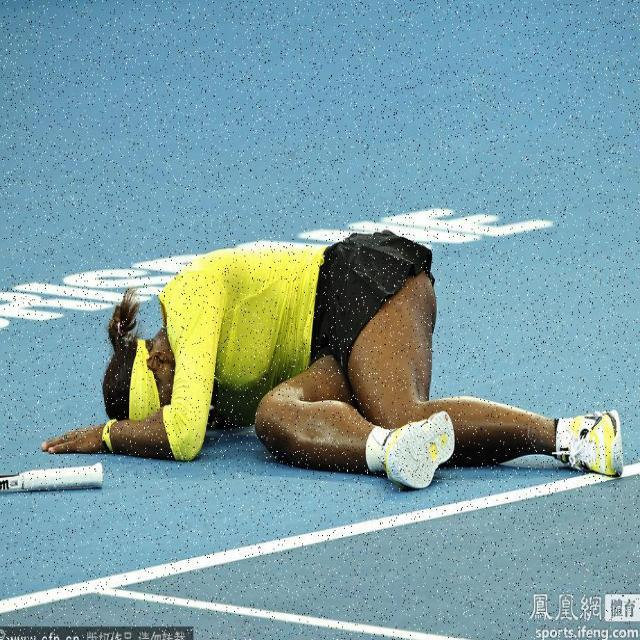fall: (70, 242, 608, 474)
